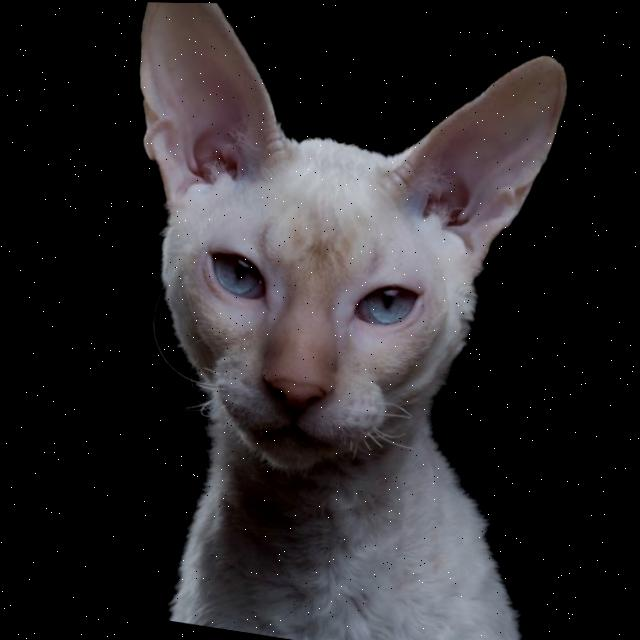Cornish Rex: (53, 1, 639, 640)
